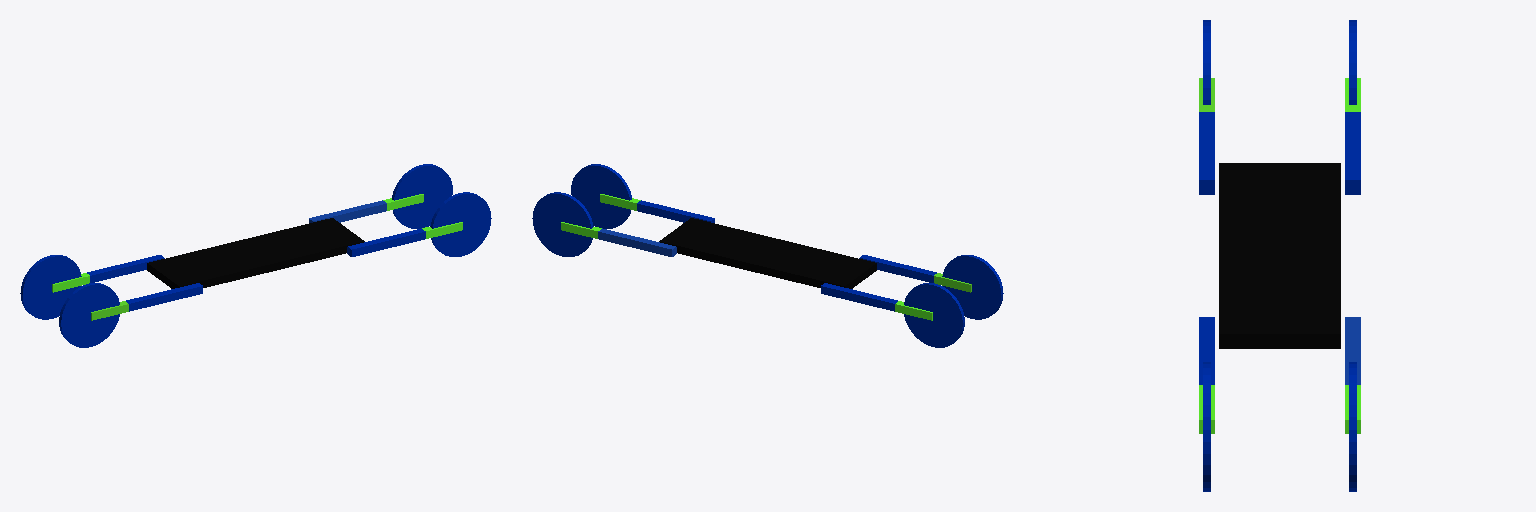
URDF robot description (robot):
<robot name="robot">
  <link name="base_footprint"></link>
  <joint name="base_joint" type="fixed">
    <parent link="base_footprint" />
    <child link="base_link" />
    <origin xyz="0.009466139050656165 0 1" rpy="0 0 0" />
  </joint>
  <link name="base_link">
    <visual>
      <origin xyz="0 0 0" rpy="0 0 0" />
      <geometry>
        <box size="2.5 0.75 0.1" />
      </geometry>
      <material name="base_link-material">
        <color rgba="0.05 0.05 0.05 1" />
      </material>
    </visual>
    <collision>
      <origin xyz="0 0 0" rpy="0 0 0"/>
      <geometry><box size="2.5 0.75 0.1"/></geometry>
    </collision>
    <inertial>
      <origin xyz="0 0 0" rpy="0 0 0" />
      <!-- mass remains 100 kg -->
      <mass value="100" />
      <!-- inertia values unchanged since mass is unchanged -->
      <inertia ixx="0.1" ixy="0" ixz="0" iyy="0.1" iyz="0" izz="0.1" />
    </inertial>
  </link>

  <joint name="base_link_to_hipFL" type="revolute">
    <parent link="base_link" />
    <child link="hipFL" />
    <origin xyz="1 0.45 0" rpy="0 0 0" />
    <axis xyz="0 -1 0"/>
    <limit effort="1000.0" lower="-1.5" upper="0" velocity="0.5"/>
  </joint>
  <link name="hipFL">
    <visual>
      <origin xyz="0.5 0 0" rpy="0 0 0" />
      <geometry>
        <box size="1 0.1 0.1" />
      </geometry>
      <material name="hipFL-material">
        <color rgba="0.1 0.3 0.7 1" />
      </material>
    </visual>
    <collision>
      <origin xyz="0.5 0 0" rpy="0 0 0" />
      <geometry>
        <box size="1 0.1 0.1" />
      </geometry>
    </collision>
    <inertial>
      <origin xyz="0.5 0 0" rpy="0 0 0" />
      <mass value="5" />
      <!-- inertia scaled from 0.1 to 0.5 for a 5 kg mass -->
      <inertia ixx="0.5" ixy="0" ixz="0" iyy="0.5" iyz="0" izz="0.5" />
    </inertial>
  </link>

  <joint name="hipFL_to_fourcheFL" type="revolute">
    <parent link="hipFL" />
    <child link="fourcheFL" />
    <origin xyz="1.25 0 0" rpy="0 0 0" />
    <axis xyz="-1 0 0"/>
    <limit effort="1000.0" lower="-1" upper="1" velocity="0.5"/>
  </joint>
  <link name="fourcheFL">
    <visual>
      <origin xyz="0 0 0" rpy="0 0 0" />
      <geometry>
        <box size="0.5 0.1 0.1" />
      </geometry>
      <material name="fourcheFL-material">
        <color rgba="0.4 1 0.2 1" />
      </material>
    </visual>
    <collision>
      <origin xyz="0 0 0" rpy="0 0 0" />
      <geometry>
        <box size="0.5 0.1 0.1" />
      </geometry>
    </collision>
    <inertial>
      <origin xyz="0 0 0" rpy="0 0 0" />
      <mass value="5" />
      <!-- inertia scaled from 0.1 to 0.5 -->
      <inertia ixx="0.5" ixy="0" ixz="0" iyy="0.5" iyz="0" izz="0.5" />
    </inertial>
  </link>

  <joint name="fourcheFL_to_wheelFL" type="revolute">
    <parent link="fourcheFL" />
    <child link="wheelFL" />
    <origin xyz="0.25 0 0" rpy="0 0 0" />
    <axis xyz="0 1 0"/>
    <limit effort="10.0" velocity="10.0"/>
  </joint>
  <link name="wheelFL">
    <visual>
      <origin xyz="0 0 0" rpy="1.570796326794897 0 0" />
      <geometry>
        <cylinder radius="0.4" length="0.05" />
      </geometry>
      <material name="wheelFL-material">
        <color rgba="0 0.2 0.7 1" />
      </material>
    </visual>
    <collision>
      <origin xyz="0 0 0" rpy="1.570796326794897 0 0" />
      <geometry>
        <cylinder radius="0.4" length="0.05" />
      </geometry>
    </collision>
    <inertial>
      <origin xyz="0 0 0" rpy="0 0 0" />
      <mass value="5" />
      <!-- inertia scaled from 0.1 to 0.5 -->
      <inertia ixx="0.5" ixy="0" ixz="0" iyy="0.5" iyz="0" izz="0.5" />
    </inertial>
  </link>

  <joint name="base_link_to_hipFR" type="revolute">
    <parent link="base_link" />
    <child link="hipFR" />
    <origin xyz="1 -0.45 0" rpy="0 0 0" />
    <axis xyz="0 -1 0"/>
    <limit effort="1000.0" lower="-1.5" upper="0" velocity="0.5"/>
  </joint>
  <link name="hipFR">
    <visual>
      <origin xyz="0.5 0 0" rpy="0 0 0" />
      <geometry>
        <box size="1 0.1 0.1" />
      </geometry>
      <material name="hipFR-material">
        <color rgba="0 0.2 0.7 1" />
      </material>
    </visual>
    <collision>
      <origin xyz="0.5 0 0" rpy="0 0 0" />
      <geometry>
        <box size="1 0.1 0.1" />
      </geometry>
    </collision>
    <inertial>
      <origin xyz="0.5 0 0" rpy="0 0 0" />
      <mass value="5" />
      <!-- inertia scaled from 0.1 to 0.5 -->
      <inertia ixx="0.5" ixy="0" ixz="0" iyy="0.5" iyz="0" izz="0.5" />
    </inertial>
  </link>

  <joint name="hipFR_to_fourcheFR" type="revolute">
    <parent link="hipFR" />
    <child link="fourcheFR" />
    <origin xyz="1.25 0 0" rpy="0 0 0" />
    <axis xyz="-1 0 0"/>
    <limit effort="1000.0" lower="-1" upper="1" velocity="0.5"/>
  </joint>
  <link name="fourcheFR">
    <visual>
      <origin xyz="0 0 0" rpy="0 0 0" />
      <geometry>
        <box size="0.5 0.1 0.1" />
      </geometry>
      <material name="fourcheFR-material">
        <color rgba="0.4 1 0.2 1" />
      </material>
    </visual>
    <collision>
      <origin xyz="0 0 0" rpy="0 0 0" />
      <geometry>
        <box size="0.5 0.1 0.1" />
      </geometry>
    </collision>
    <inertial>
      <origin xyz="0 0 0" rpy="0 0 0" />
      <mass value="5" />
      <!-- inertia scaled from 0.1 to 0.5 -->
      <inertia ixx="0.5" ixy="0" ixz="0" iyy="0.5" iyz="0" izz="0.5" />
    </inertial>
  </link>

  <joint name="fourcheFR_to_wheelFR" type="revolute">
    <parent link="fourcheFR" />
    <child link="wheelFR" />
    <origin xyz="0.25 0 0" rpy="0 0 0" />
    <axis xyz="0 1 0"/>
    <limit effort="10.0" velocity="10.0"/>
  </joint>
  <link name="wheelFR">
    <visual>
      <origin xyz="0 0 0" rpy="1.570796326794897 0 0" />
      <geometry>
        <cylinder radius="0.4" length="0.05" />
      </geometry>
      <material name="wheelFR-material">
        <color rgba="0 0.2 0.7 1" />
      </material>
    </visual>
    <collision>
      <origin xyz="0 0 0" rpy="1.570796326794897 0 0" />
      <geometry>
        <cylinder radius="0.4" length="0.05" />
      </geometry>
    </collision>
    <inertial>
      <origin xyz="0 0 0" rpy="0 0 0" />
      <mass value="5" />
      <!-- inertia scaled from 0.3 to 1.5 for a 5 kg mass -->
      <inertia ixx="1.5" ixy="0" ixz="0" iyy="1.5" iyz="0" izz="1.5" />
    </inertial>
  </link>

  <joint name="base_link_to_hipBL" type="revolute">
    <parent link="base_link" />
    <child link="hipBL" />
    <origin xyz="-1 0.45 0" rpy="0 0 0" />
    <axis xyz="0 -1 0"/>
    <limit effort="1000.0" lower="0" upper="1.5" velocity="0.5"/>
  </joint>
  <link name="hipBL">
    <visual>
      <origin xyz="-0.5 0 0" rpy="0 0 0" />
      <geometry>
        <box size="1 0.1 0.1" />
      </geometry>
      <material name="hipBL-material">
        <color rgba="0 0.2 0.7 1" />
      </material>
    </visual>
    <collision>
      <origin xyz="-0.5 0 0" rpy="0 0 0" />
      <geometry>
        <box size="1 0.1 0.1" />
      </geometry>
    </collision>
    <inertial>
      <origin xyz="-0.5 0 0" rpy="0 0 0" />
      <mass value="5" />
      <!-- inertia scaled from 0.1 to 0.5 -->
      <inertia ixx="0.5" ixy="0" ixz="0" iyy="0.5" iyz="0" izz="0.5" />
    </inertial>
  </link>

  <joint name="hipBL_to_fourcheBL" type="revolute">
    <parent link="hipBL" />
    <child link="fourcheBL" />
    <origin xyz="-1.25 0 0" rpy="0 0 0" />
    <axis xyz="-1 0 0"/>
    <limit effort="1000.0" lower="-1" upper="1" velocity="0.5"/>
  </joint>
  <link name="fourcheBL">
    <visual>
      <origin xyz="0 0 0" rpy="0 0 0" />
      <geometry>
        <box size="0.5 0.1 0.1" />
      </geometry>
      <material name="fourcheBL-material">
        <color rgba="0.4 1 0.2 1" />
      </material>
    </visual>
    <collision>
      <origin xyz="0 0 0" rpy="0 0 0" />
      <geometry>
        <box size="0.5 0.1 0.1" />
      </geometry>
    </collision>
    <inertial>
      <origin xyz="0 0 0" rpy="0 0 0" />
      <mass value="5" />
      <!-- inertia scaled from 0.1 to 0.5 -->
      <inertia ixx="0.5" ixy="0" ixz="0" iyy="0.5" iyz="0" izz="0.5" />
    </inertial>
  </link>

  <joint name="fourcheBL_to_wheelBL" type="revolute">
    <parent link="fourcheBL" />
    <child link="wheelBL" />
    <origin xyz="-0.25 0 0" rpy="0 0 0" />
    <axis xyz="0 1 0"/>
    <limit effort="10.0" velocity="10.0"/>
  </joint>
  <link name="wheelBL">
    <visual>
      <origin xyz="0 0 0" rpy="1.570796326794897 0 0" />
      <geometry>
        <cylinder radius="0.4" length="0.05" />
      </geometry>
      <material name="wheelBL-material">
        <color rgba="0 0.2 0.7 1" />
      </material>
    </visual>
    <collision>
      <origin xyz="0 0 0" rpy="1.570796326794897 0 0" />
      <geometry>
        <cylinder radius="0.4" length="0.05" />
      </geometry>
    </collision>
    <inertial>
      <origin xyz="0 0 0" rpy="0 0 0" />
      <mass value="5" />
      <!-- inertia scaled from 0.3 to 1.5 -->
      <inertia ixx="1.5" ixy="0" ixz="0" iyy="1.5" iyz="0" izz="1.5" />
    </inertial>
  </link>

  <joint name="base_link_to_hipBR" type="revolute">
    <parent link="base_link" />
    <child link="hipBR" />
    <origin xyz="-1 -0.45 0" rpy="0 0 0" />
    <axis xyz="0 -1 0"/>
    <limit effort="1000.0" lower="0" upper="1.5" velocity="0.5"/>
  </joint>
  <link name="hipBR">
    <visual>
      <origin xyz="-0.5 0 0" rpy="0 0 0" />
      <geometry>
        <box size="1 0.1 0.1" />
      </geometry>
      <material name="hipBR-material">
        <color rgba="0 0.2 0.7 1" />
      </material>
    </visual>
    <collision>
      <origin xyz="-0.5 0 0" rpy="0 0 0" />
      <geometry>
        <box size="1 0.1 0.1" />
      </geometry>
    </collision>
    <inertial>
      <origin xyz="-0.5 0 0" rpy="0 0 0" />
      <mass value="5" />
      <!-- inertia scaled from 0.1 to 0.5 -->
      <inertia ixx="0.5" ixy="0" ixz="0" iyy="0.5" iyz="0" izz="0.5" />
    </inertial>
  </link>

  <joint name="hipBR_to_fourcheBR" type="revolute">
    <parent link="hipBR" />
    <child link="fourcheBR" />
    <origin xyz="-1.25 0 0" rpy="0 0 0" />
    <axis xyz="-1 0 0"/>
    <limit effort="1000.0" lower="-1" upper="1" velocity="0.5"/>
  </joint>
  <link name="fourcheBR">
    <visual>
      <origin xyz="0 0 0" rpy="0 0 0" />
      <geometry>
        <box size="0.5 0.1 0.1" />
      </geometry>
      <material name="fourcheBR-material">
        <color rgba="0.4 0.9 0.2 1" />
      </material>
    </visual>
    <collision>
      <origin xyz="0 0 0" rpy="0 0 0" />
      <geometry>
        <box size="0.5 0.1 0.1" />
      </geometry>
    </collision>
    <inertial>
      <origin xyz="0 0 0" rpy="0 0 0" />
      <mass value="5" />
      <!-- inertia scaled from 0.1 to 0.5 -->
      <inertia ixx="0.5" ixy="0" ixz="0" iyy="0.5" iyz="0" izz="0.5" />
    </inertial>
  </link>

  <joint name="fourcheBR_to_wheelBR" type="revolute">
    <parent link="fourcheBR" />
    <child link="wheelBR" />
    <origin xyz="-0.25 0 0" rpy="0 0 0" />
    <axis xyz="0 1 0"/>
    <limit effort="10.0" velocity="10.0"/>
  </joint>
  <link name="wheelBR">
    <visual>
      <origin xyz="0 0 0" rpy="1.570796326794897 0 0" />
      <geometry>
        <cylinder radius="0.4" length="0.05" />
      </geometry>
      <material name="wheelBR-material">
        <color rgba="0 0.2 0.7 1" />
      </material>
    </visual>
    <collision>
      <origin xyz="0 0 0" rpy="1.570796326794897 0 0" />
      <geometry>
        <cylinder radius="0.4" length="0.05" />
      </geometry>
    </collision>
    <inertial>
      <origin xyz="0 0 0" rpy="0 0 0" />
      <mass value="5" />
      <!-- inertia scaled from 0.3 to 1.5 -->
      <inertia ixx="1.5" ixy="0" ixz="0" iyy="1.5" iyz="0" izz="1.5" />
    </inertial>
  </link>
</robot>

--- Facts derived from the render (not from the file) ---
3 views of the same robot in one strip: view 1: azimuth 30°, elevation 25°; view 2: azimuth 150°, elevation 25°; view 3: azimuth 270°, elevation 25° (orthographic).
Robot: robot — 14 links, 13 joints (12 revolute, 1 fixed); root link base_footprint; default pose: every joint at zero.
Visible links, largest first — view 1: base_link, wheelBR, wheelFR, wheelBL, wheelFL, hipFR, hipBR, hipBL, hipFL; view 2: base_link, wheelBL, wheelFL, wheelBR, wheelFR, hipFL, hipBL, hipBR, hipFR; view 3: base_link, hipBL, hipBR, wheelFL, wheelFR, hipFL, hipFR, wheelBL, wheelBR.
Link boxes in pixels (bbox=[...]): base_link: bbox=[147, 218, 364, 288]; wheelBR: bbox=[59, 283, 119, 347]; wheelFR: bbox=[430, 192, 491, 256]; wheelBL: bbox=[20, 255, 81, 319]; wheelFL: bbox=[392, 164, 452, 228]; hipFR: bbox=[347, 228, 425, 256]; hipBR: bbox=[126, 283, 202, 311]; hipBL: bbox=[87, 255, 164, 282]; hipFL: bbox=[309, 200, 386, 222]; base_link: bbox=[659, 218, 876, 288]; wheelBL: bbox=[904, 283, 964, 347]; wheelFL: bbox=[532, 192, 593, 256]; wheelBR: bbox=[942, 255, 1003, 319]; wheelFR: bbox=[571, 164, 631, 228]; hipFL: bbox=[598, 228, 676, 256]; hipBL: bbox=[821, 283, 897, 311]; hipBR: bbox=[859, 255, 936, 282]; hipFR: bbox=[637, 200, 714, 222]; base_link: bbox=[1219, 163, 1340, 348]; hipBL: bbox=[1345, 112, 1360, 194]; hipBR: bbox=[1199, 112, 1214, 194]; wheelFL: bbox=[1349, 362, 1356, 491]; wheelFR: bbox=[1203, 362, 1210, 491]; hipFL: bbox=[1345, 317, 1360, 384]; hipFR: bbox=[1199, 317, 1214, 384]; wheelBL: bbox=[1349, 20, 1356, 104]; wheelBR: bbox=[1203, 20, 1210, 104].
Bounding box of the posed robot: 5.8 × 1 × 0.8 m (x, y, z).
Geometry: primitives only (box / cylinder / sphere), no mesh files.